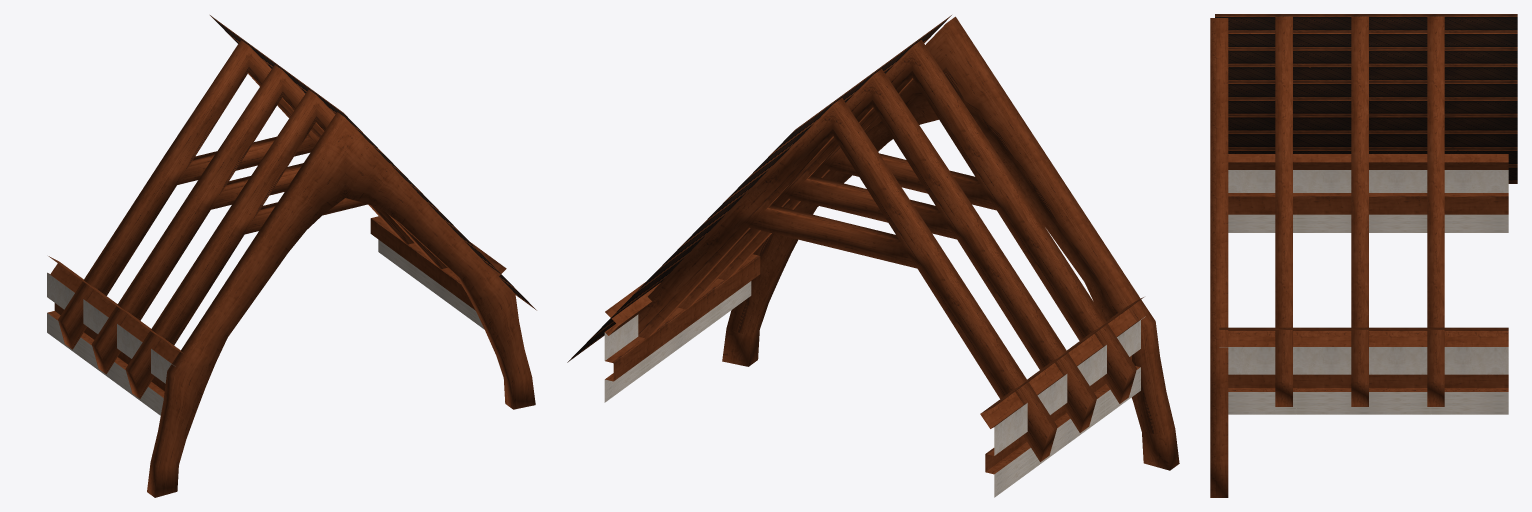
File: VaultedBeamSec.fbx
3 views of the same model, side by side, from view 1: azimuth 30°, elevation 25°; view 2: azimuth 150°, elevation 25°; view 3: azimuth 270°, elevation 25° (orthographic). The views are drawn at different scales.
Parts seen in each view (by area): view 1: BeamCeiling.002; view 2: BeamCeiling.002; view 3: BeamCeiling.002.
Boxes of the visible parts, box(x1,y1,x2,y2) form: BeamCeiling.002: box(47, 15, 536, 497); BeamCeiling.002: box(567, 15, 1179, 497); BeamCeiling.002: box(1210, 14, 1517, 497).
Bounding box in the file's own units: 1010 × 837 × 615.
